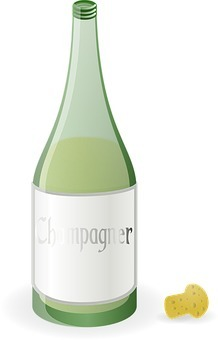bottle: (26, 1, 143, 329)
